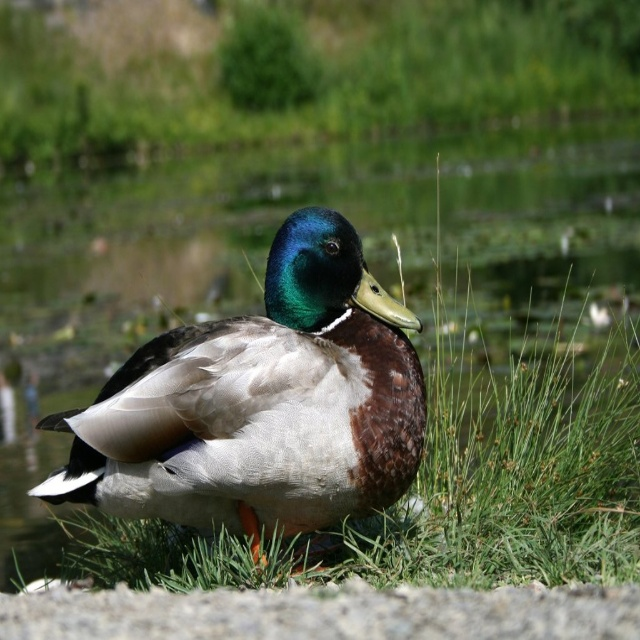Duck: (26, 207, 431, 573)
